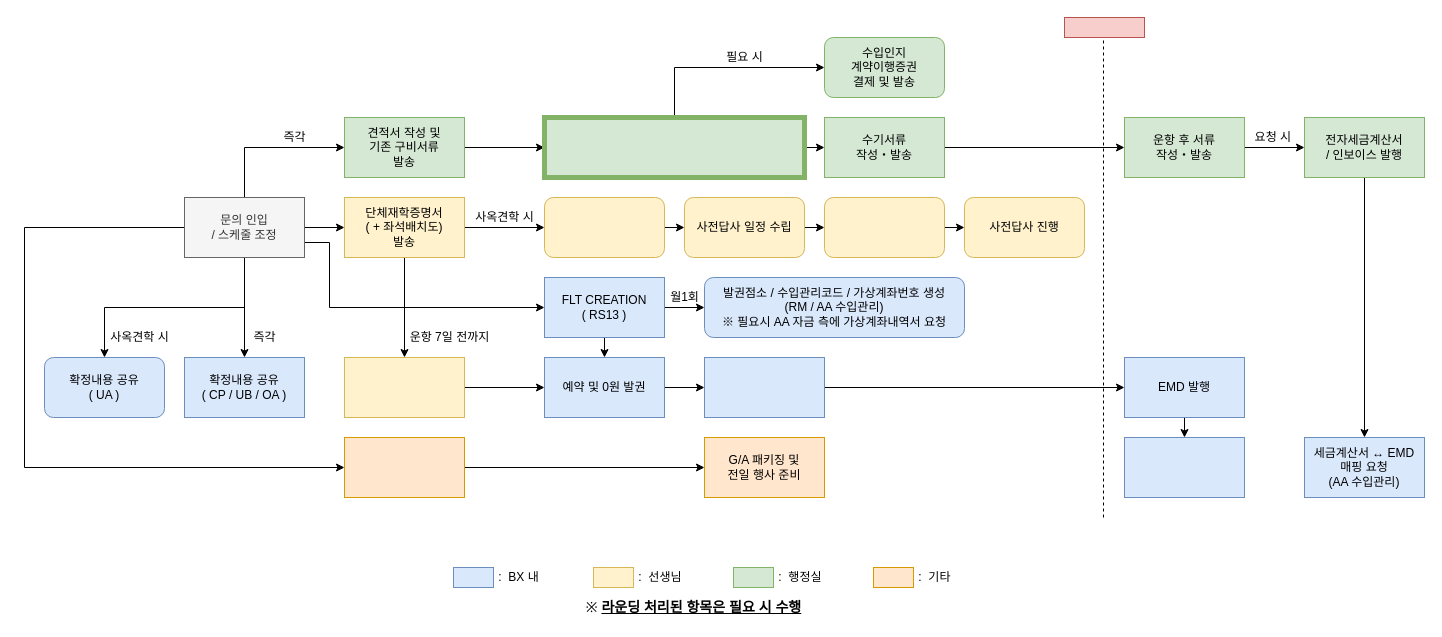
This 1442x637 diagram has some shape labels left out. The shapes that lost their labels are listed below. From the top down, each one's centre as x and y in pixels, then its label:
point 1104,27: 운항 당일
point 674,147: 계약서 작성 또는 전자계약 체결 ( S2B or G2B )
point 604,227: 시설물 예약
point 884,227: 사전 답사일정 공유 ( GA )
point 404,387: 단체재학증명서 수신
point 764,387: 좌석배정 요청 (PUSKK)
point 404,467: G/A 발주 ( 품의 등 제반업무 有 )
point 1184,467: NSH CHK → 환불처리
